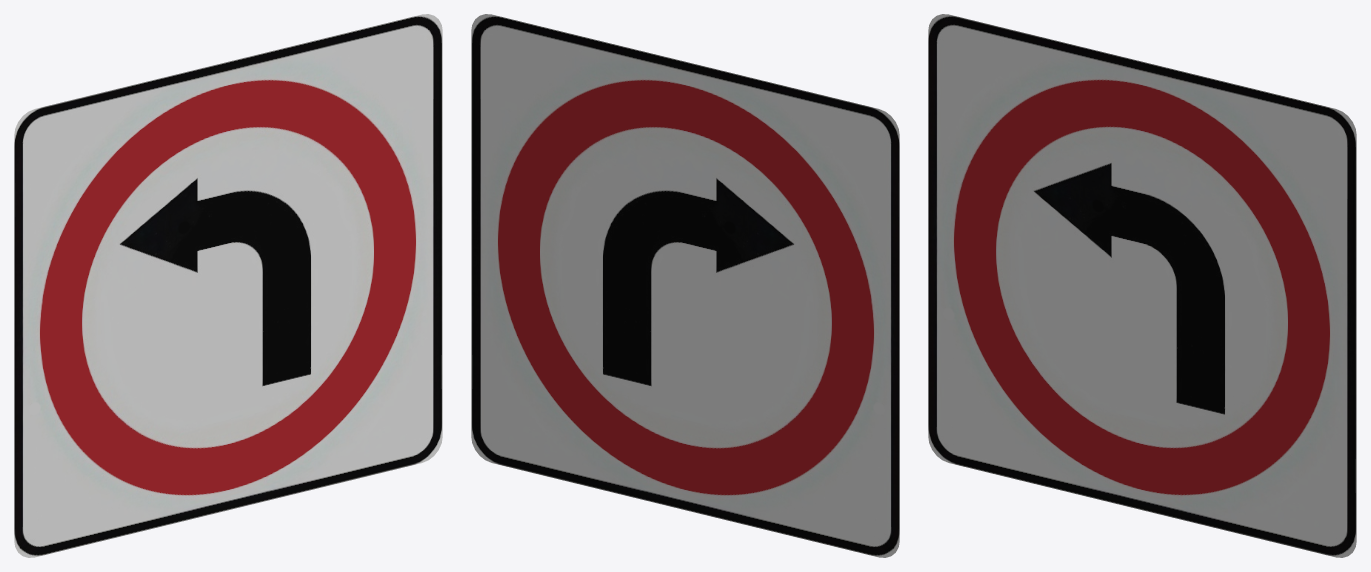
The model's file is vermelho_left.gltf.
The picture shows the model from 3 angles, left to right: view 1: azimuth 30°, elevation 25°; view 2: azimuth 150°, elevation 25°; view 3: azimuth 330°, elevation 25°; orthographic projection.
Parts seen in each view (by area): view 1: vermelho_left; view 2: vermelho_left; view 3: vermelho_left.
Boxes of the visible parts, x1,y1,x2,y2 form: vermelho_left: (14,14,442,557); vermelho_left: (471,14,899,557); vermelho_left: (928,14,1356,557).
Bounding box in the file's own units: 1.51 × 1.51 × 3.36e-16.
1 material, 1 textured.
